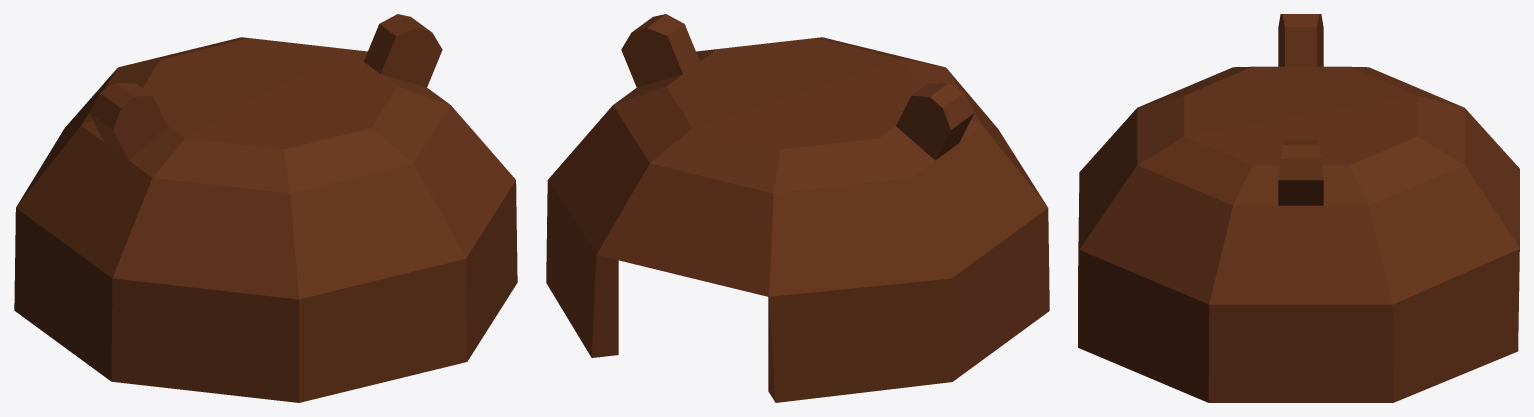
File: bear-hat-1.gltf
The picture shows the model from 3 angles, left to right: view 1: azimuth 30°, elevation 25°; view 2: azimuth 150°, elevation 25°; view 3: azimuth 270°, elevation 25°; orthographic projection. The views are drawn at different scales.
Parts seen in each view (by area): view 1: bear; view 2: bear; view 3: bear.
Boxes of the visible parts, x1=… form: bear: x1=14, y1=14, x2=517, y2=402; bear: x1=546, y1=14, x2=1049, y2=402; bear: x1=1078, y1=14, x2=1519, y2=402.
Bounding box in the file's own units: 0.2106 × 0.1195 × 0.2087.
Materials: 1 (1 with a texture image).
